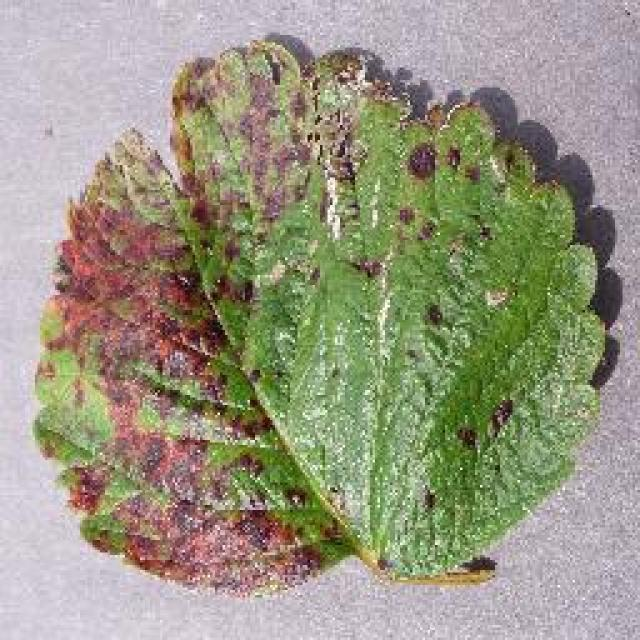Strawberry leaf scorch: (108, 215, 422, 530)
